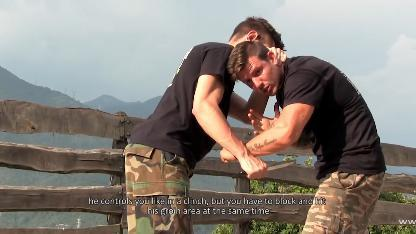knife: (237, 156, 299, 180)
